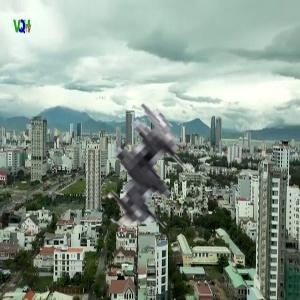drone: (70, 100, 208, 238)
